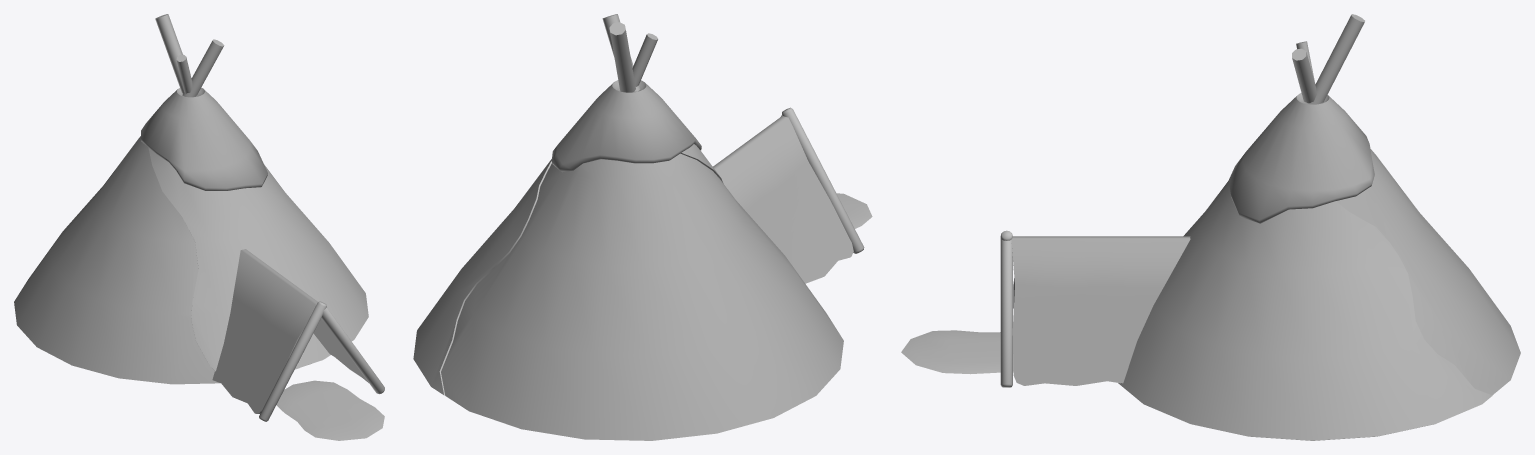
Rendered from House_lvl1.fbx.
3 renders of one model, left to right at view 1: azimuth 30°, elevation 25°; view 2: azimuth 150°, elevation 25°; view 3: azimuth 270°, elevation 25°, orthographic. The views are drawn at different scales.
Visible parts, largest first — view 1: Lvl1_House; view 2: Lvl1_House; view 3: Lvl1_House.
Boxes of the visible parts, x1,y1,x2,y2 form: Lvl1_House: [14, 14, 384, 440]; Lvl1_House: [413, 14, 872, 440]; Lvl1_House: [901, 14, 1520, 440].
Bounding box in the file's own units: 6.04 × 5.35 × 8.97.
